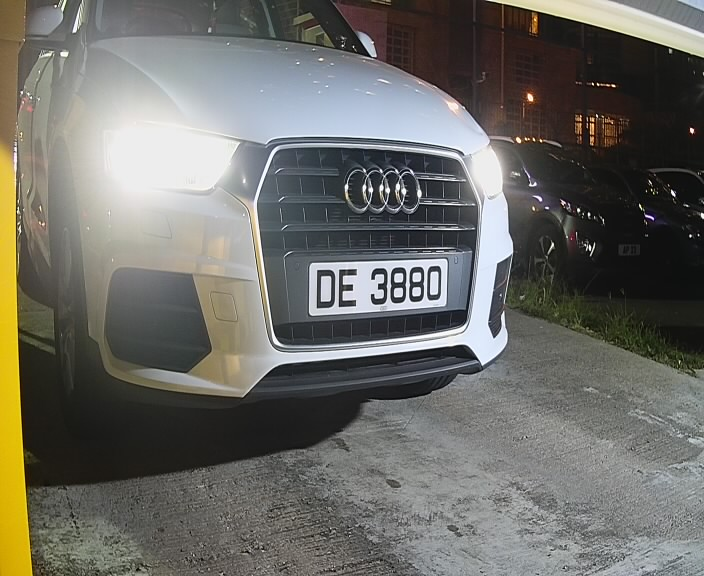Car: (7, 2, 518, 466)
License Plate: (299, 249, 456, 324)
